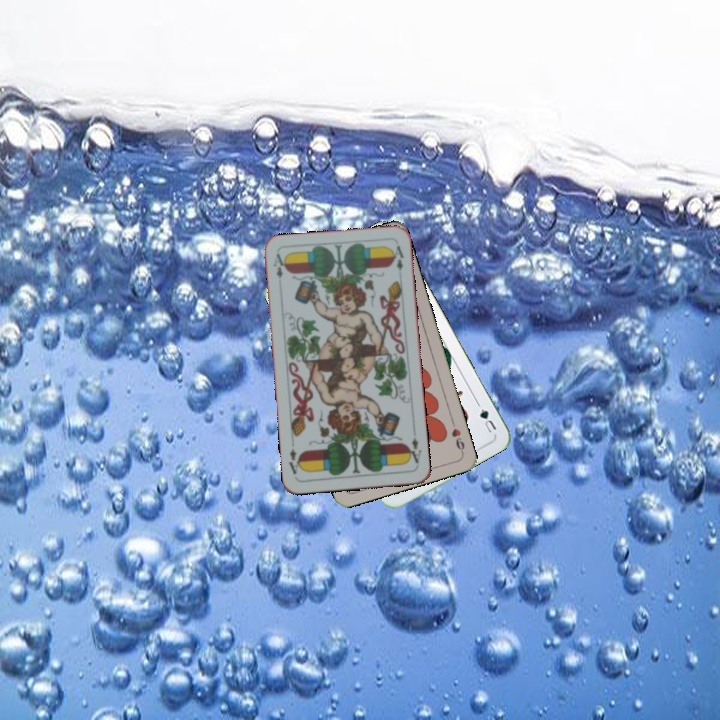EA: (404, 433, 424, 468), (270, 250, 288, 281)
GU: (476, 404, 499, 436)
H9: (447, 416, 467, 455)
